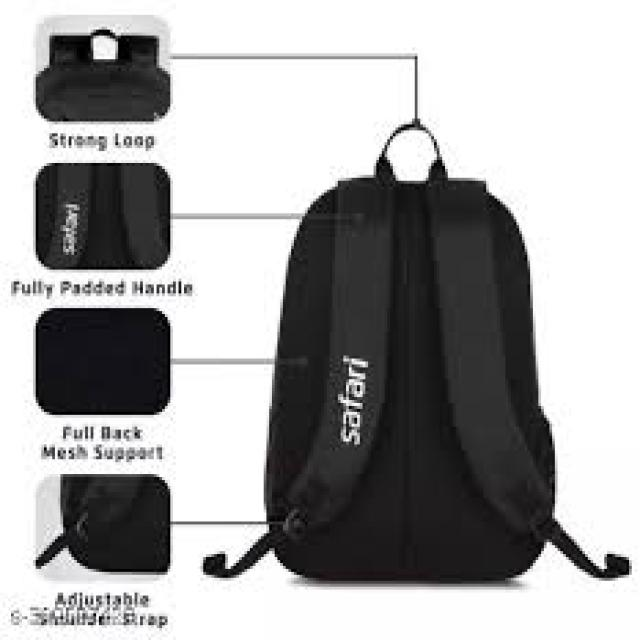backpack: (202, 120, 630, 585)
